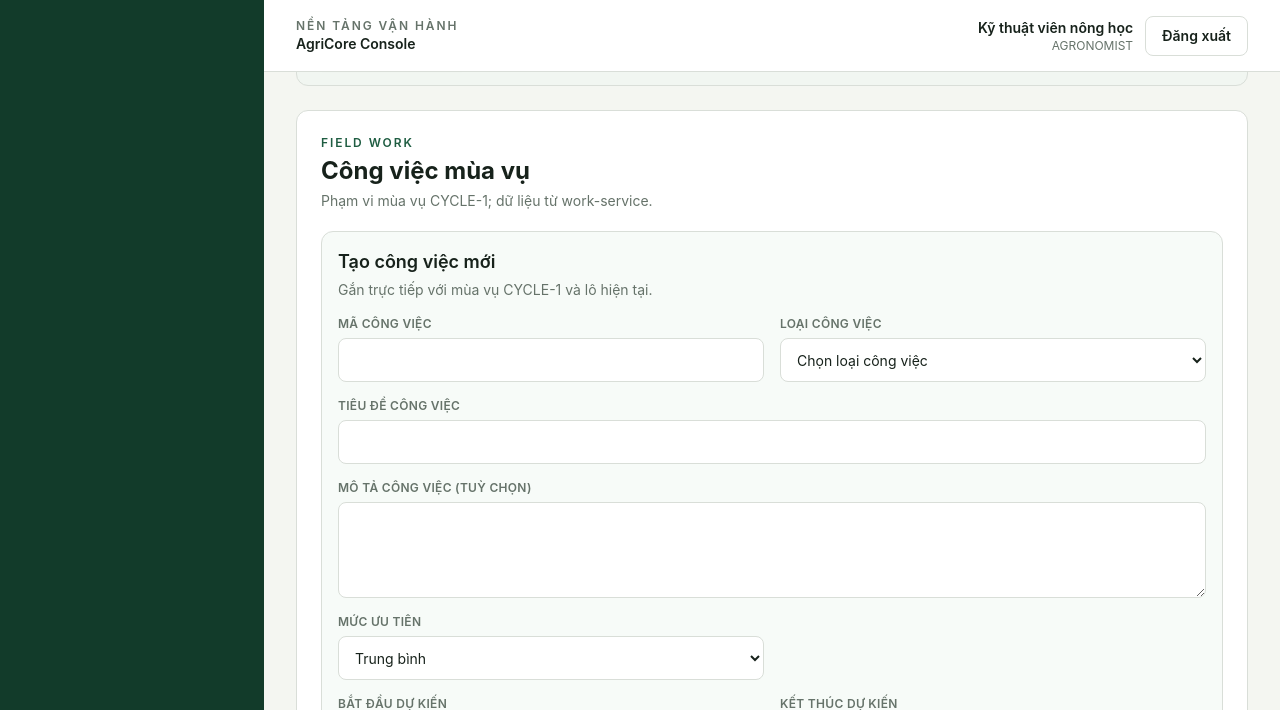
Test case: work-task creation workspace › keeps the draft and does not retry a duplicate code conflict
(page scrolled)
expect the heading "Tạo công việc mới" is shown: met, box left=338, top=251, right=495, bottom=272
Type "TASK-DUPLICATE" into the field labelled "Mã công việc" at (551, 360), box left=338, top=338, right=764, bottom=382
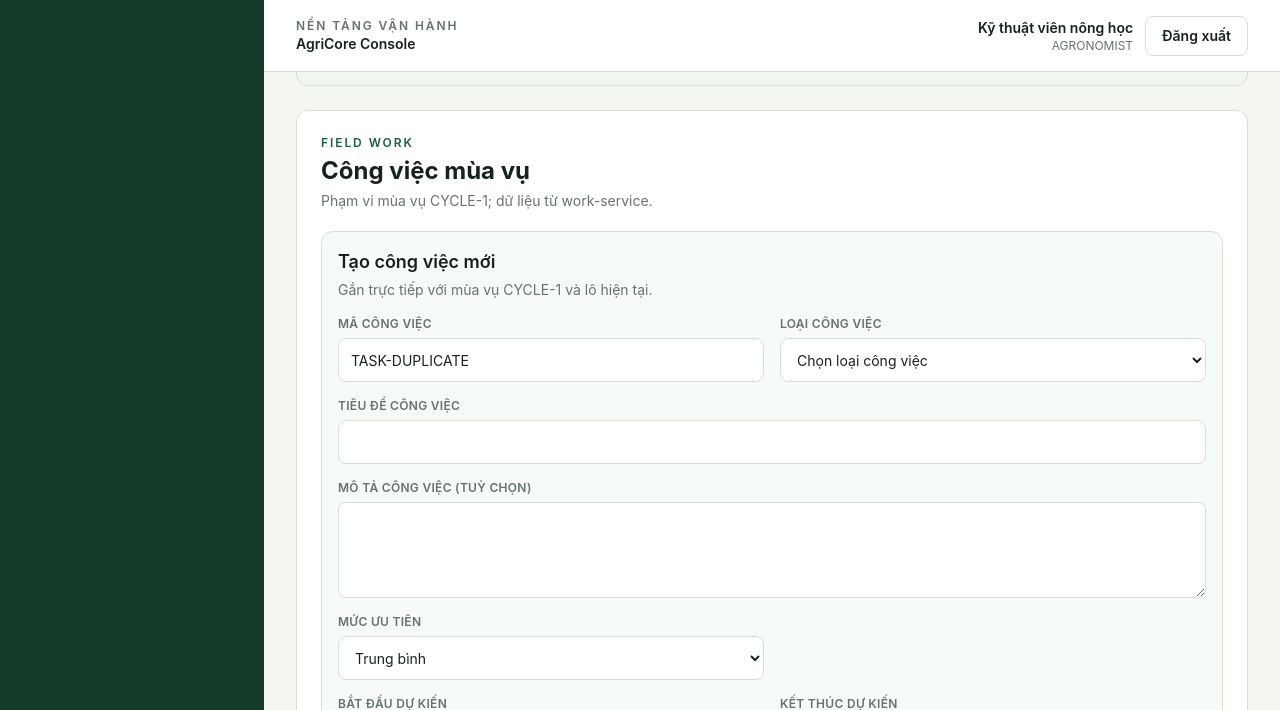
Select "Gieo trồng" in the dropdown labelled "Loại công việc" at (993, 360), box left=780, top=338, right=1206, bottom=382
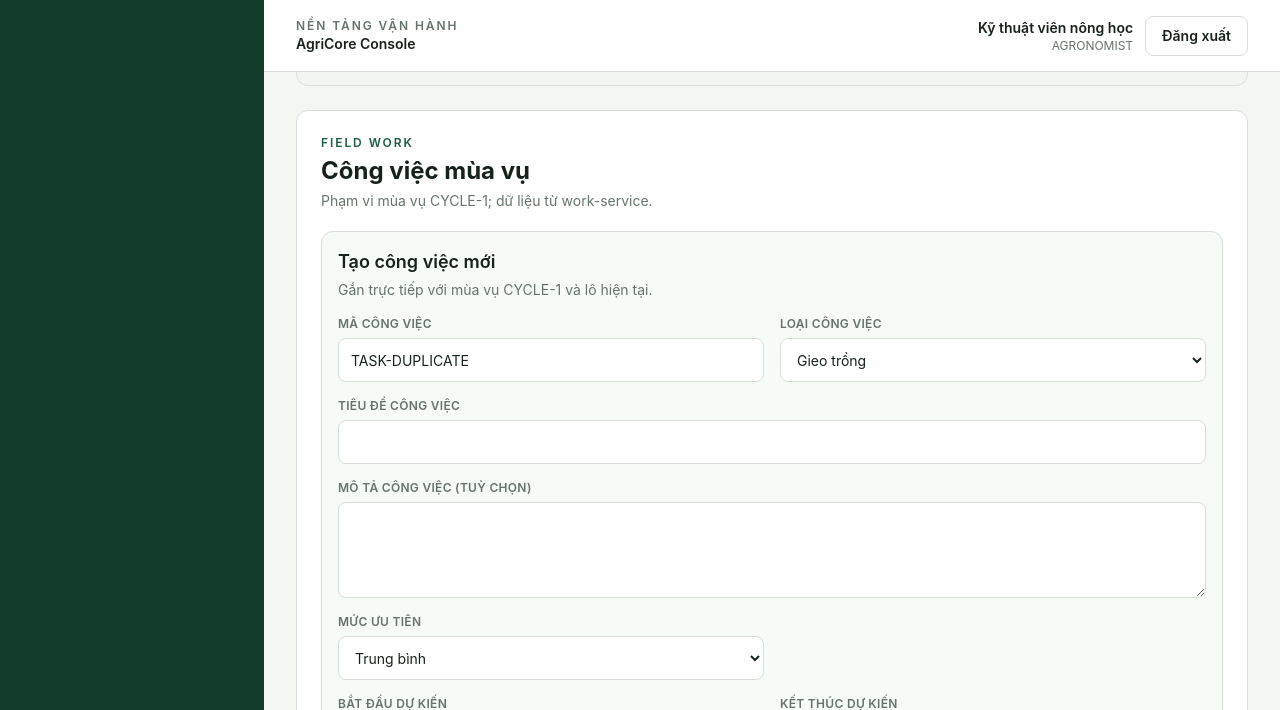
Type "Gieo khu A" into the field labelled "Tiêu đề công việc" at (772, 442), box left=338, top=420, right=1206, bottom=464
(page scrolled)
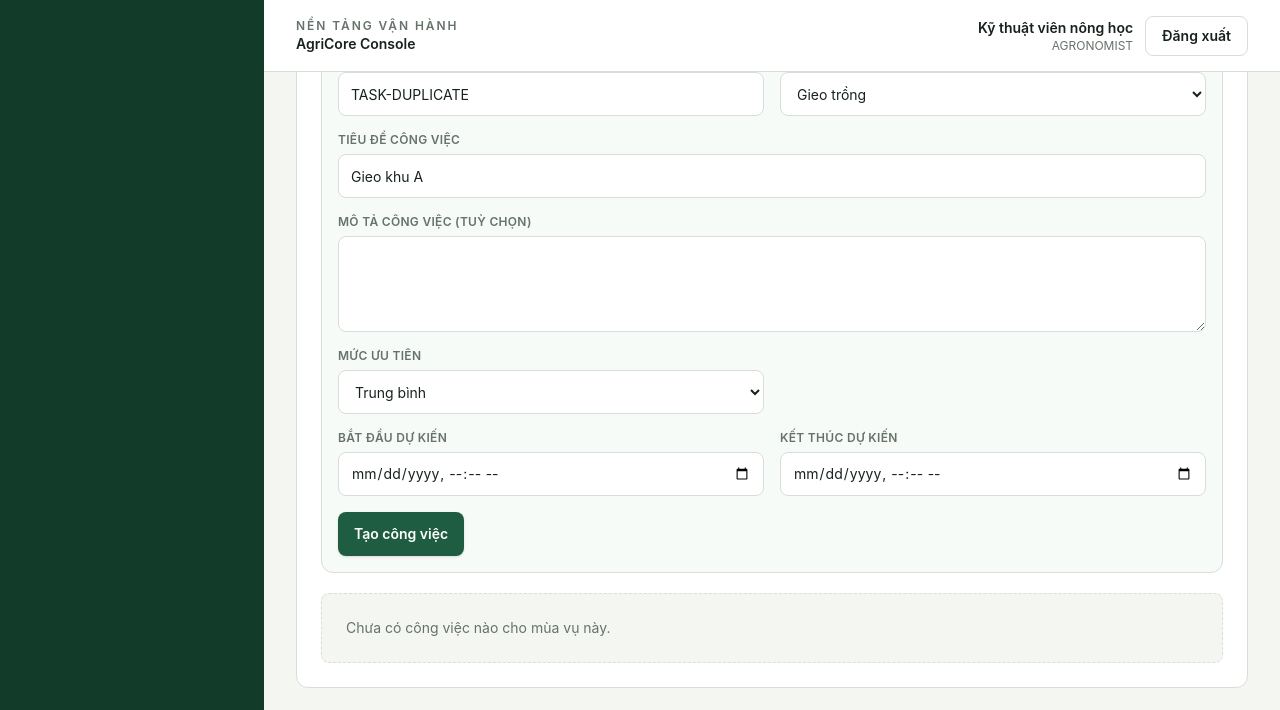
Click the button "Tạo công việc" at (401, 534), box left=338, top=512, right=464, bottom=556
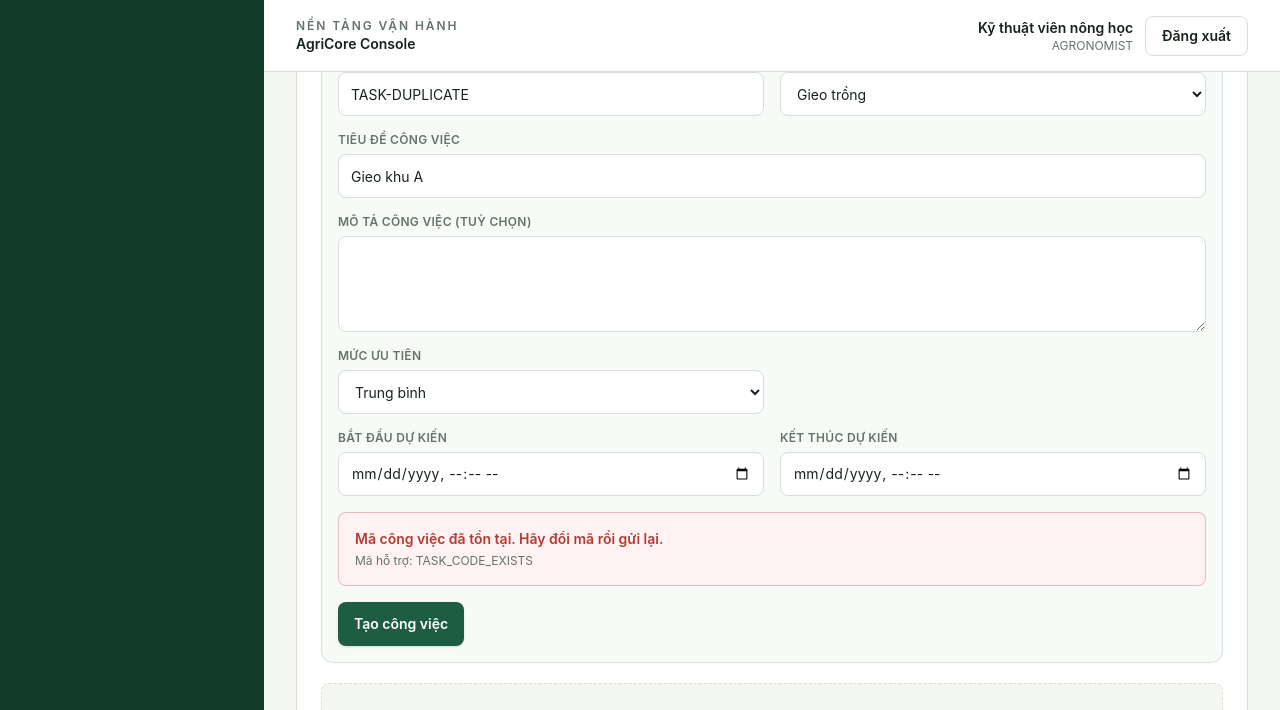
expect the message named "Không thể tạo công việc" shows "Mã công việc đã tồn tại": met, box left=355, top=530, right=663, bottom=547
